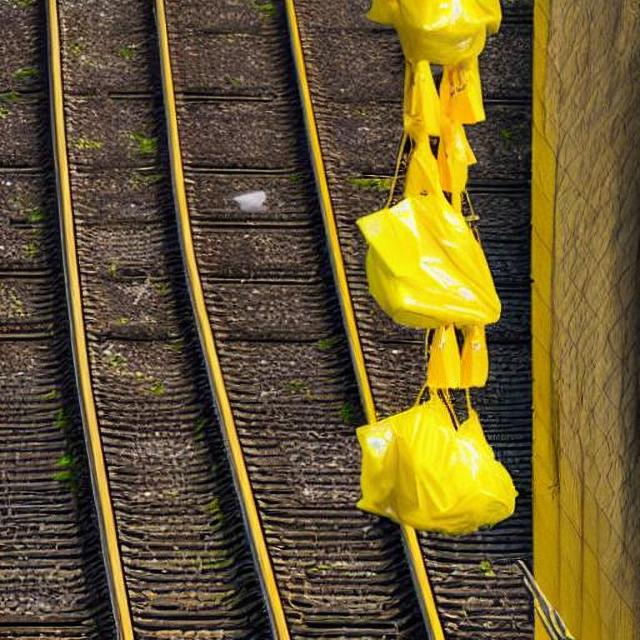floating object: (333, 0, 527, 530)
